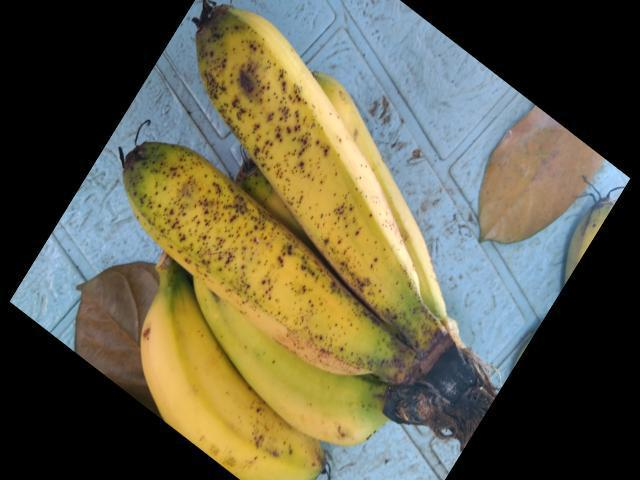ripe: (102, 124, 387, 372), (187, 30, 419, 333), (129, 283, 340, 479)
